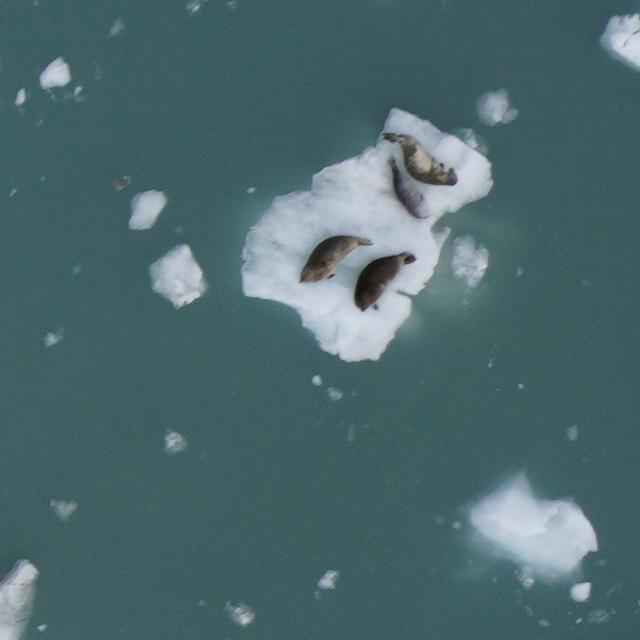seal: (376, 127, 462, 190), (351, 248, 419, 315), (296, 232, 379, 286), (383, 149, 437, 224)
